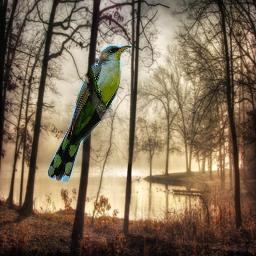Cuckoo: (48, 45, 132, 182)
